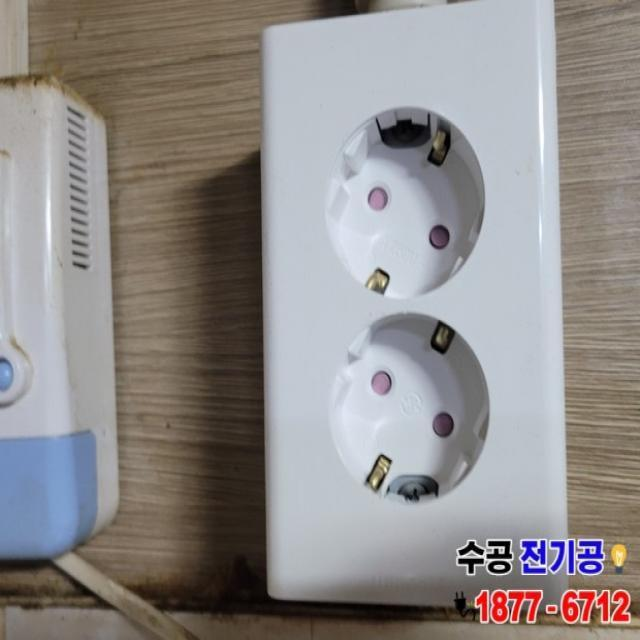typeb: (247, 13, 581, 602)
